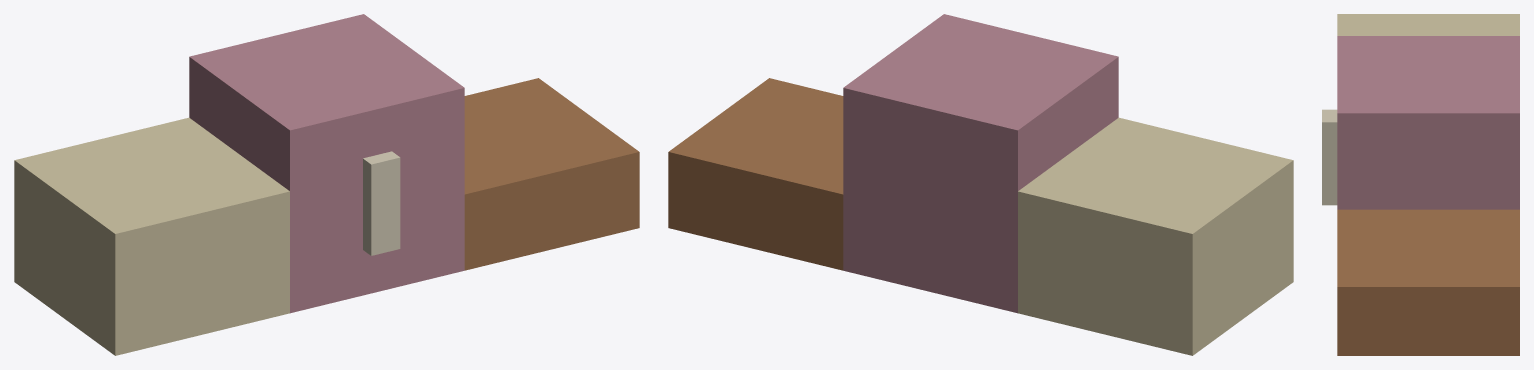
The model's file is fashion-16.glb.
3 renders of one model, left to right at view 1: azimuth 30°, elevation 25°; view 2: azimuth 150°, elevation 25°; view 3: azimuth 270°, elevation 25°, orthographic. The views are drawn at different scales.
Visible parts, largest first — view 1: Display plinth; view 2: Display plinth; view 3: Display plinth.
Part boxes in pixels (x1,y1,x2,y2): Display plinth: [14, 14, 639, 355]; Display plinth: [668, 14, 1293, 355]; Display plinth: [1322, 14, 1519, 355].
Size of the model in its own units: 2.88 by 0.96 by 1.04.
